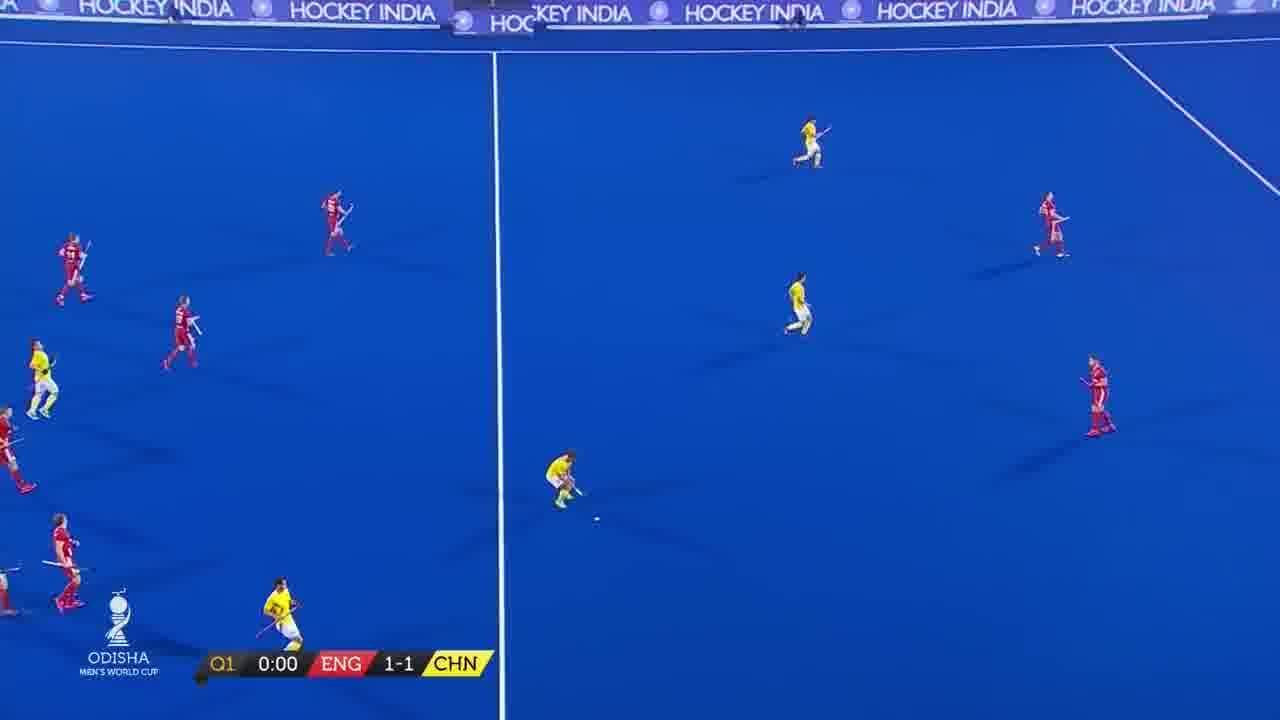ball: (588, 509, 608, 528)
